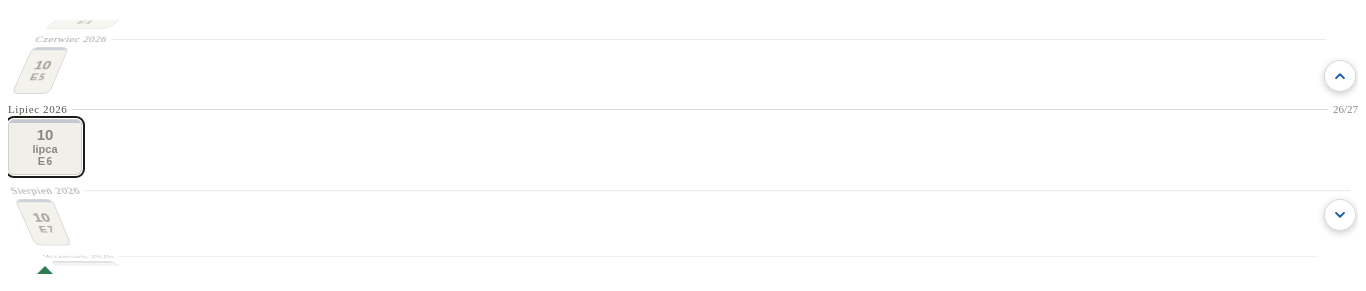
it: CalendarBarrel — jump back to the opening row › CB.28: tapping it returns to the opening row and selects there
The image size is (1366, 291).
Click the button "Czerwiec 2026 10 E5". click: click(60, 64)
box: [12,34,109,94]
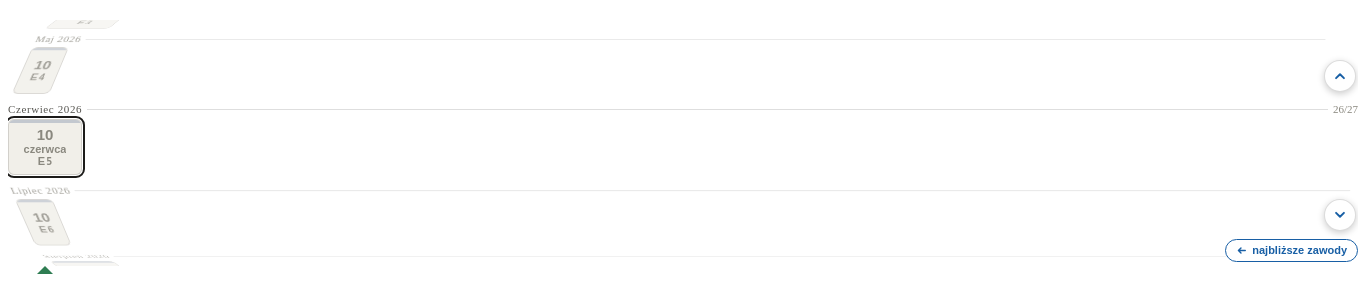
Click the button "Maj 2026 10 E4". click: click(47, 64)
box: [12,34,83,94]
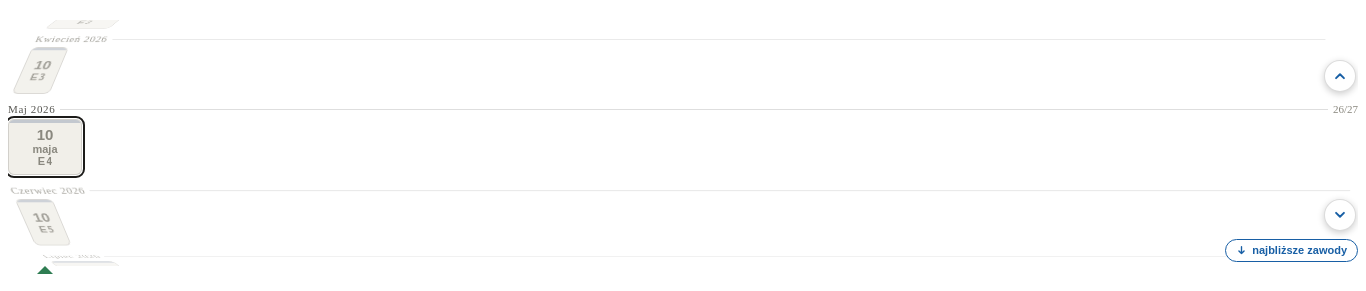
Click the button with class "jmp". click: click(1292, 250)
box: [1225,239,1358,262]
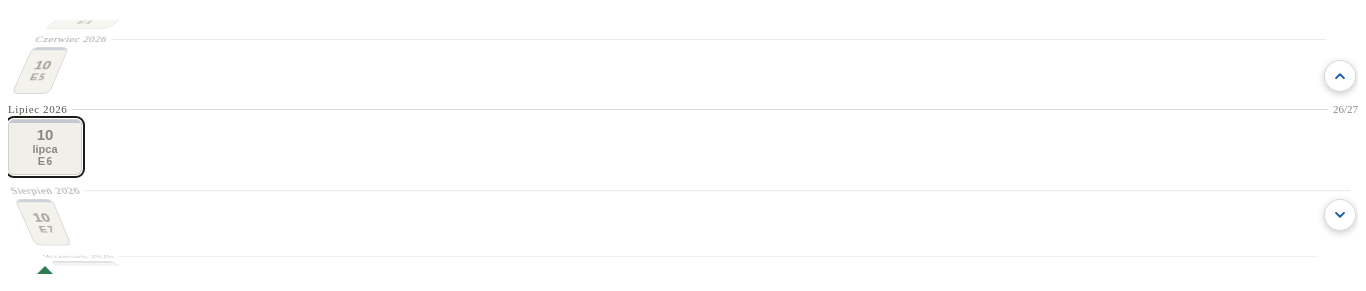
Check: the button with class "jmp" is gone
